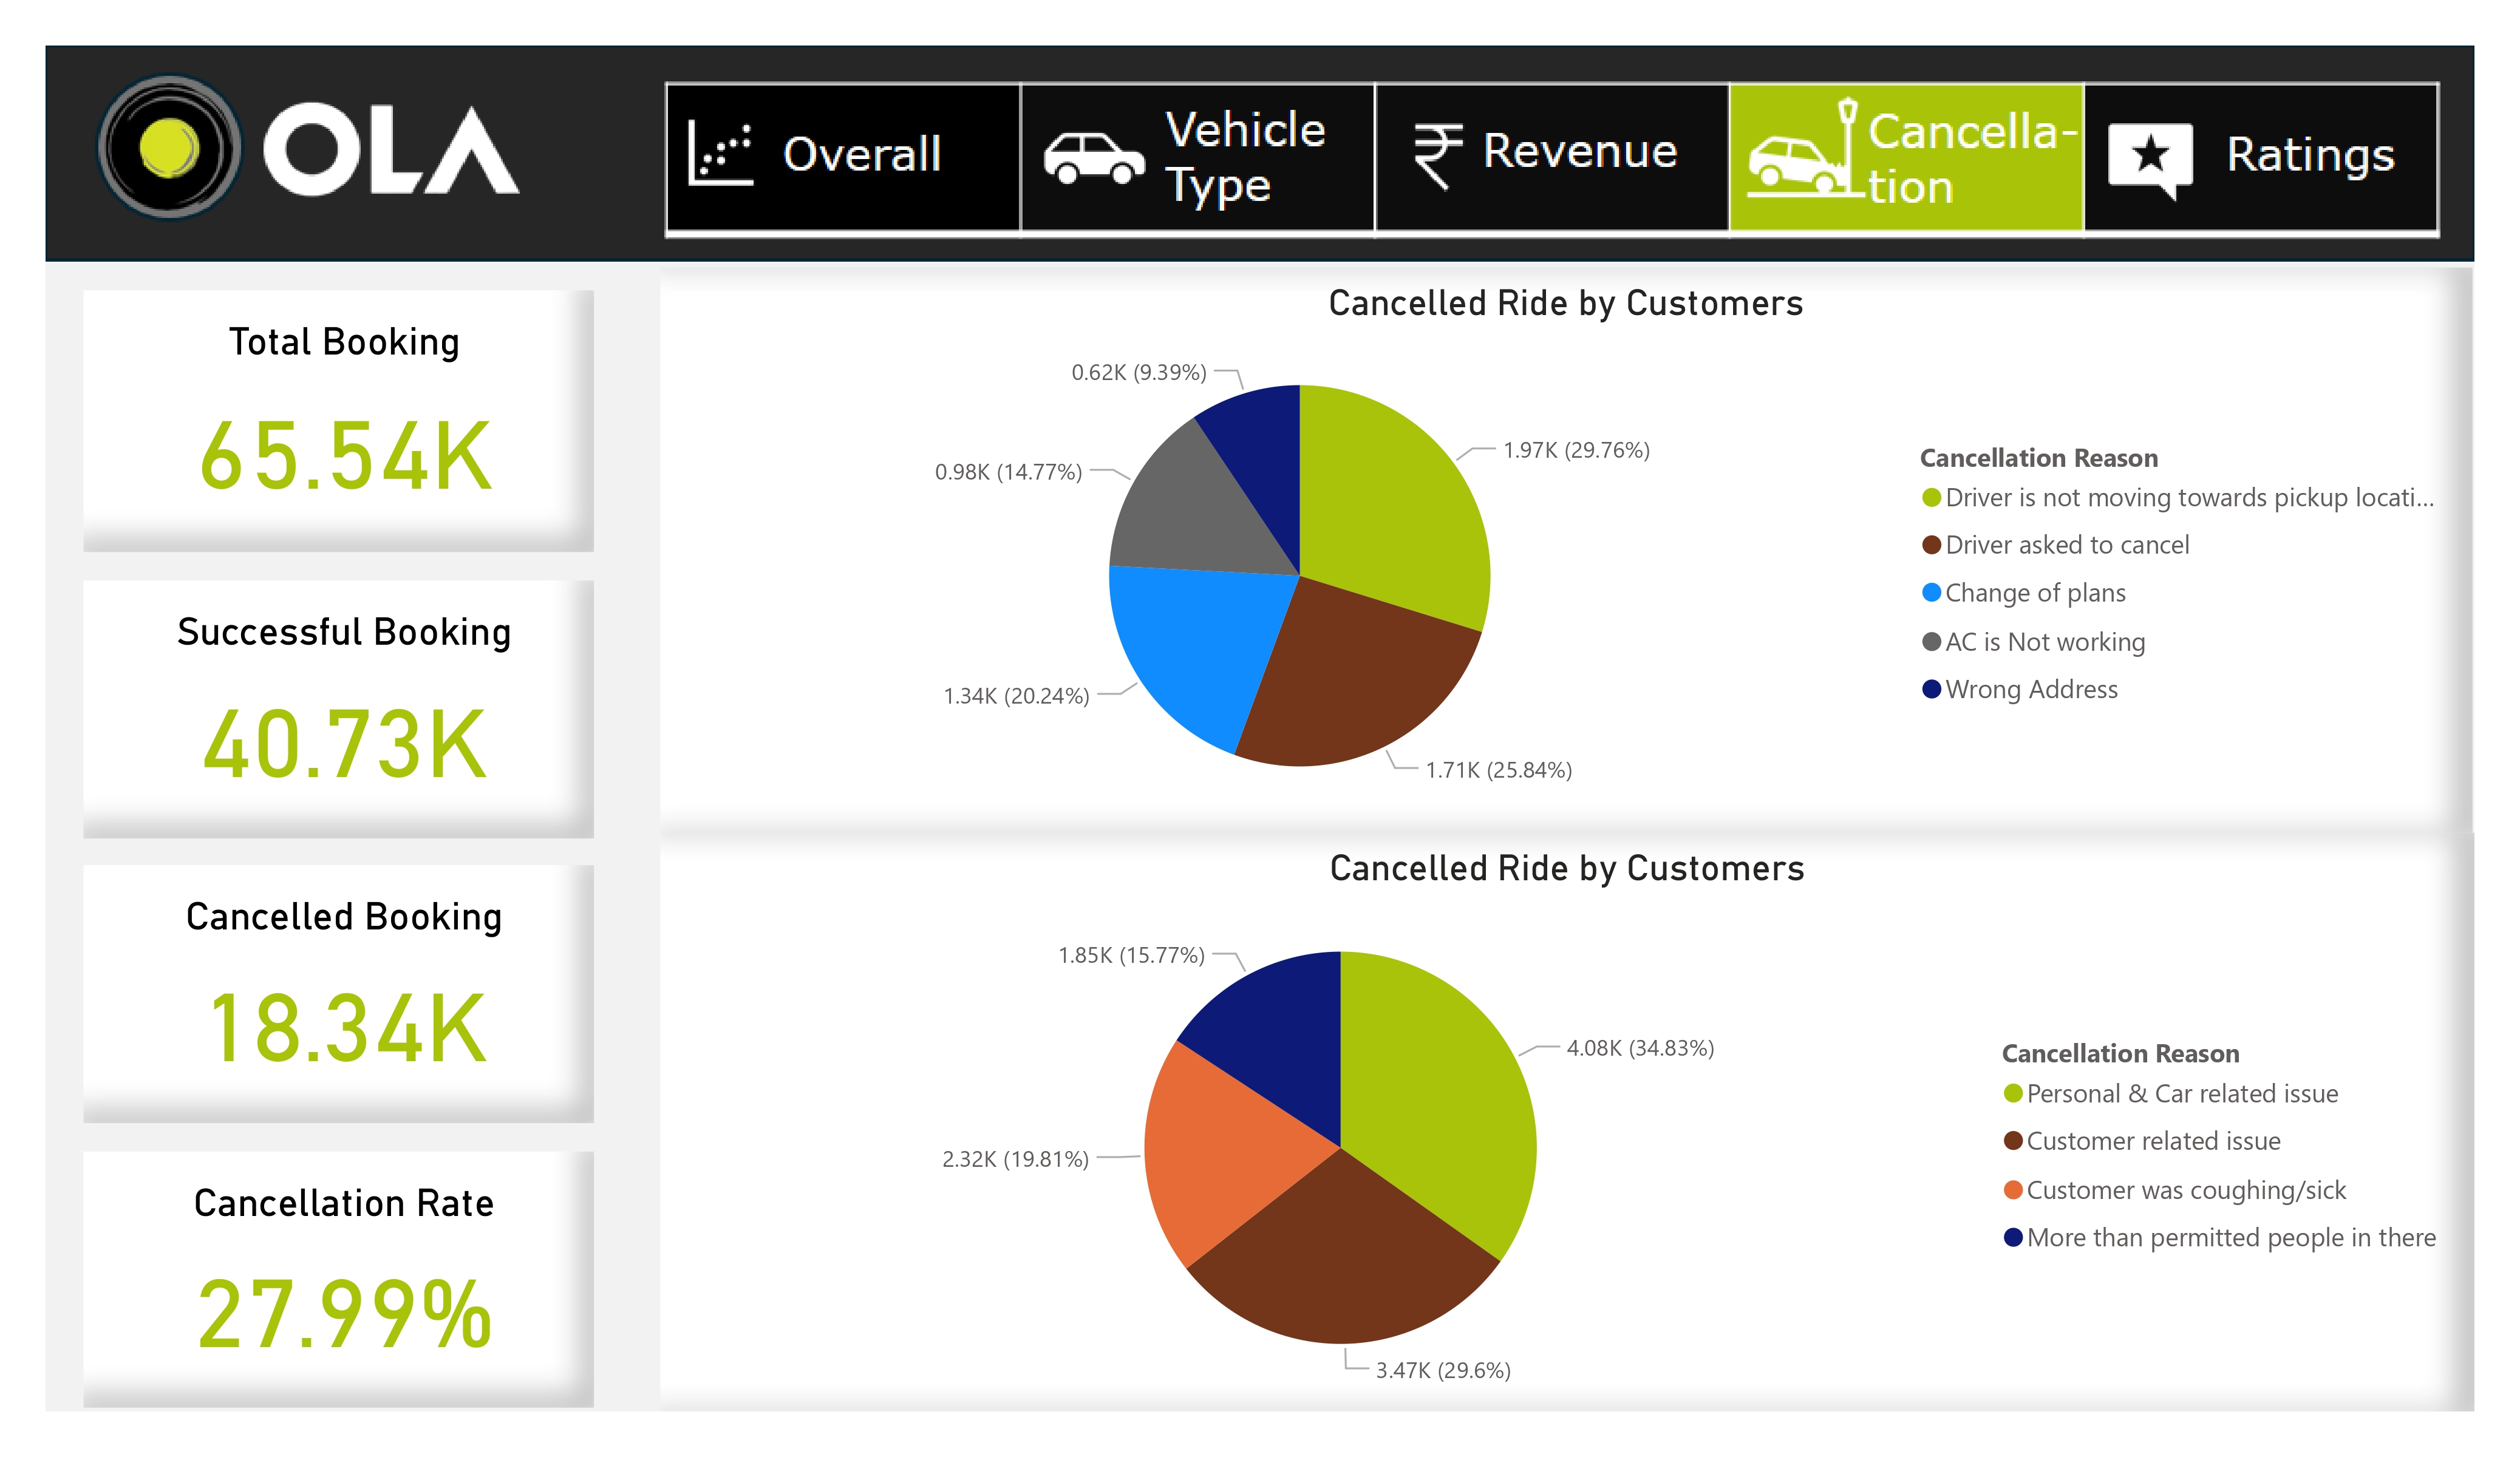

What the dashboard file says about the page in this screenshot:
{"tool":"powerbi","page":{"name":"Cancellation","canvas":[1280,720],"ordinal":3},"visuals":[{"type":"actionButton","box":[1085,26.7,168.3,66.7],"z":0},{"type":"actionButton","box":[708.3,26.7,168.3,66.7],"z":1000},{"type":"actionButton","box":[520,26.7,173.3,66.7],"z":2000},{"type":"actionButton","box":[333.3,26.7,175,66.7],"z":3000},{"type":"pieChart","title":"Cancelled Ride by Customers","fields":{"Y":["CountNonNull(July.Booking_ID)"],"Category":["July.Canceled_Rides_by_Customer"]},"box":[324.2,116.7,954.5,298.5],"z":3001},{"type":"pieChart","title":"Cancelled Ride by Customers","fields":{"Y":["CountNonNull(July.Booking_ID)"],"Category":["July.Canceled_Rides_by_Driver"]},"box":[324.2,415.2,956.1,304.5],"z":3002},{"type":"card","title":"Cancellation Rate","fields":{"Values":["July.Cancellation Rate"]},"box":[19.7,583.3,269.7,134.8],"z":3003},{"type":"card","title":"Total Booking","fields":{"Values":["CountNonNull(July.Booking_ID)"]},"box":[19.7,128.8,269.7,137.9],"z":3004},{"type":"card","title":"Successful Booking","fields":{"Values":["CountNonNull(July.Booking_ID)"]},"box":[19.7,281.8,269.7,136.4],"z":3005},{"type":"card","title":"Cancelled Booking","fields":{"Values":["CountNonNull(July.Booking_ID)"]},"box":[19.7,431.8,269.7,136.4],"z":3006}]}

Visuals, with their boxes in screenshot pixels (x1, y1, x2, y2):
actionButton: <box>2105,96,2424,223</box>
actionButton: <box>1389,96,1709,223</box>
actionButton: <box>1032,96,1361,223</box>
actionButton: <box>678,96,1010,223</box>
"Cancelled Ride by Customers" pieChart: <box>661,267,2472,833</box>
"Cancelled Ride by Customers" pieChart: <box>661,833,2474,1411</box>
"Cancellation Rate" card: <box>83,1152,594,1408</box>
"Total Booking" card: <box>83,290,594,551</box>
"Successful Booking" card: <box>83,580,594,839</box>
"Cancelled Booking" card: <box>83,864,594,1124</box>
